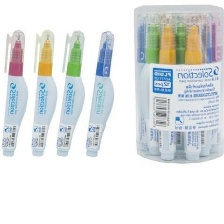correction_fluid: (83, 27, 118, 158), (53, 27, 88, 157), (0, 28, 31, 158), (28, 25, 58, 157), (136, 13, 163, 155), (180, 14, 206, 161), (194, 12, 215, 157), (158, 13, 178, 161), (135, 11, 152, 153), (171, 14, 187, 156), (208, 12, 223, 153)
plastic_box: (132, 2, 224, 165)
